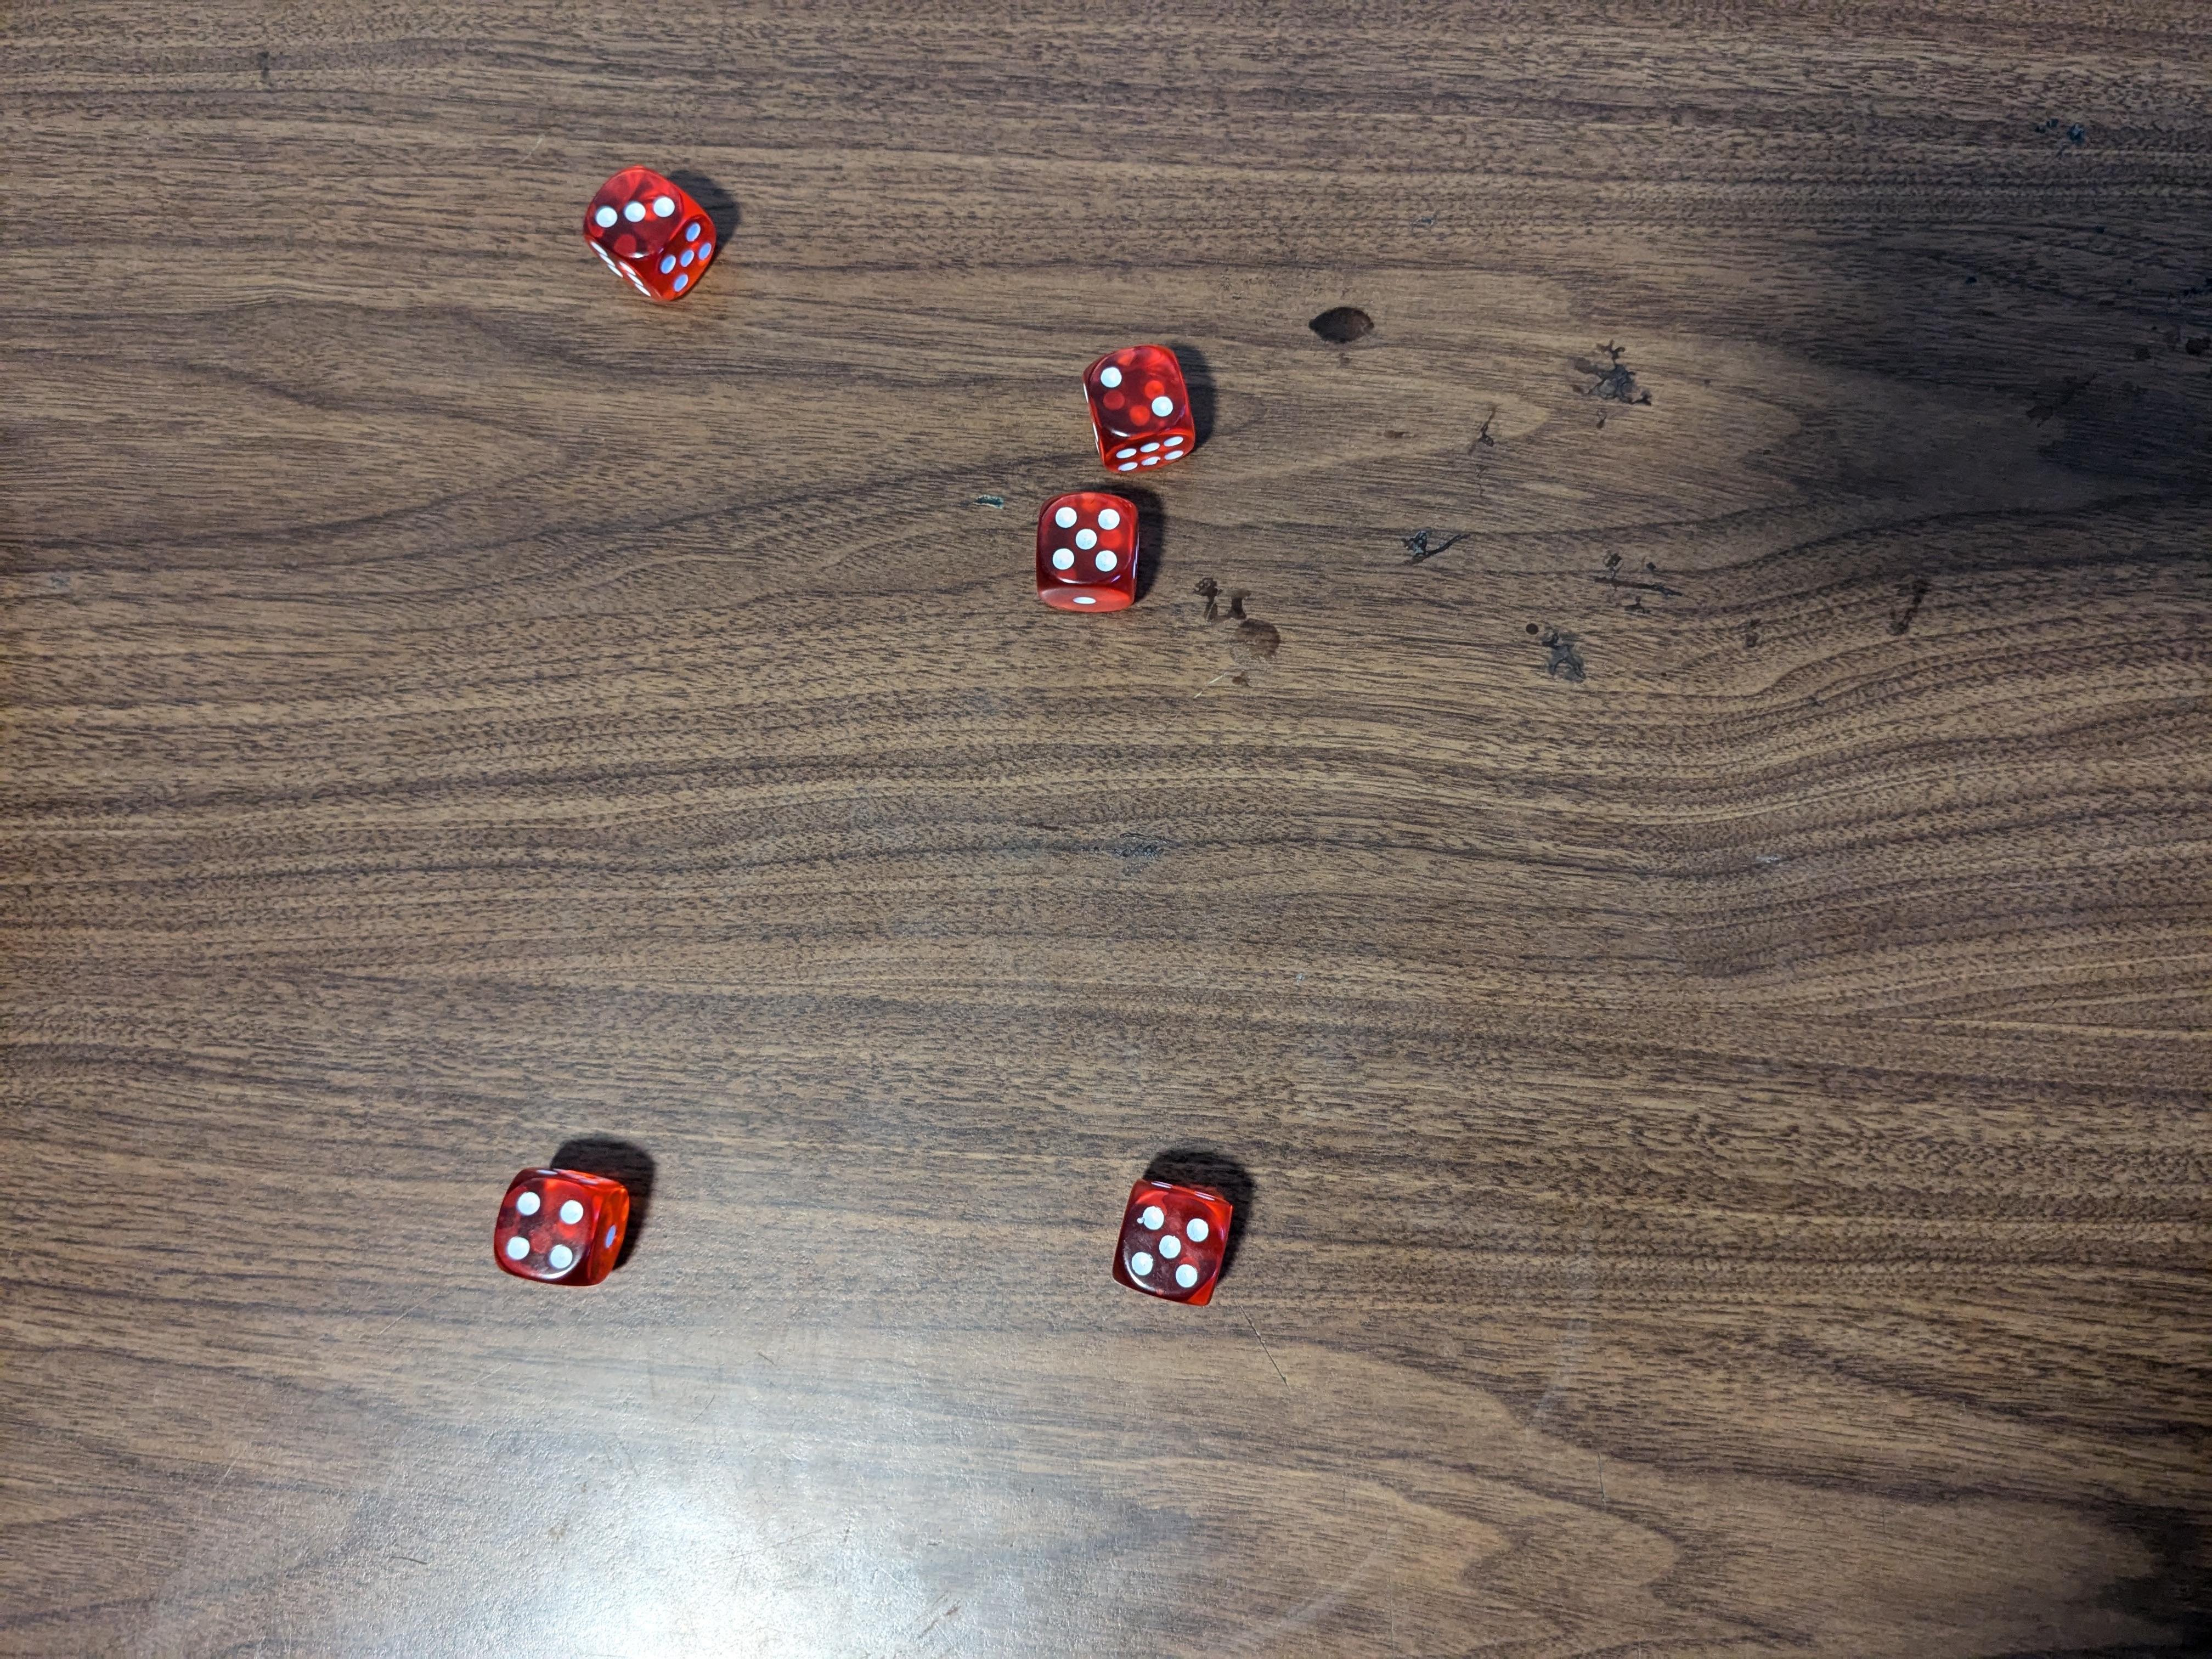five: (1108, 1178, 1237, 1307), (1031, 486, 1157, 608)
four: (486, 1159, 631, 1283)
three: (578, 162, 721, 303)
two: (1085, 338, 1193, 469)
